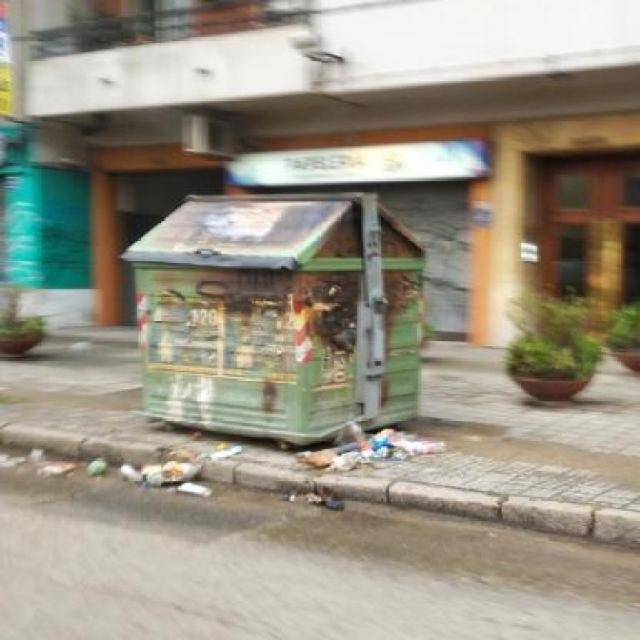garbage: (6, 414, 450, 530)
